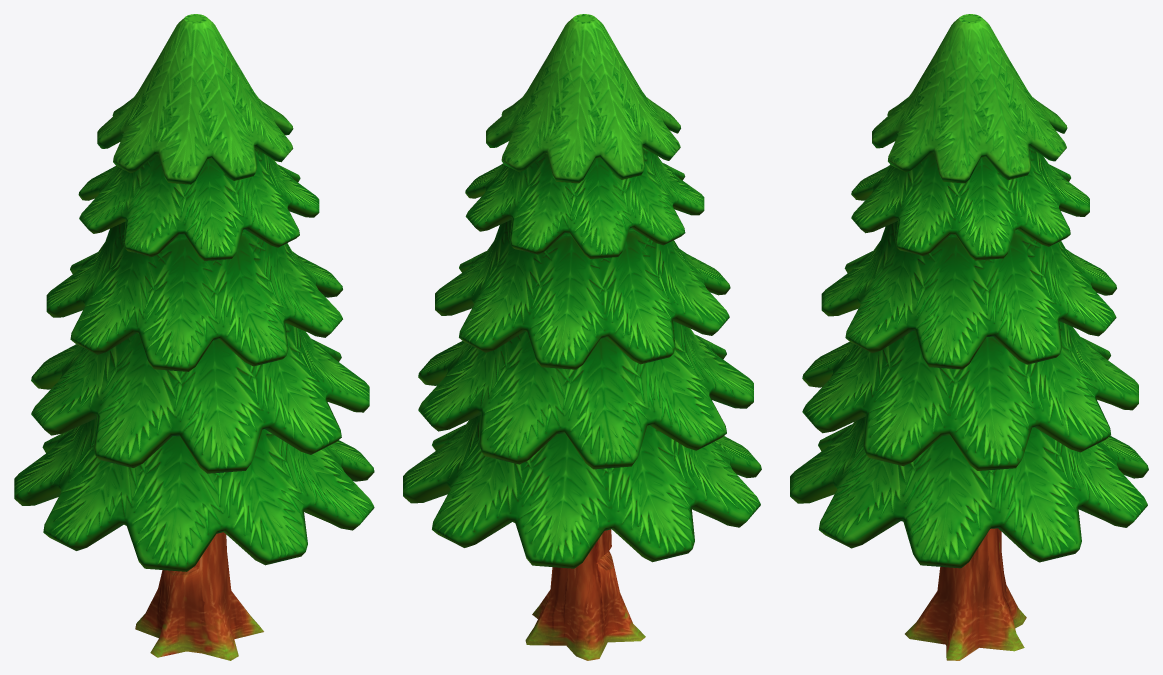
The model's file is Tree05.FBX.
3 views of the same model, side by side, from view 1: azimuth 30°, elevation 25°; view 2: azimuth 150°, elevation 25°; view 3: azimuth 270°, elevation 25° (orthographic).
Visible parts, largest first — view 1: Tree05; view 2: Tree05; view 3: Tree05.
Part boxes in pixels (x1,y1,x2,y2): Tree05: (14,14,374,660); Tree05: (403,14,761,660); Tree05: (790,14,1148,660).
Size of what is drawn, in the model's own units: 4.05 by 7.55 by 3.99.
